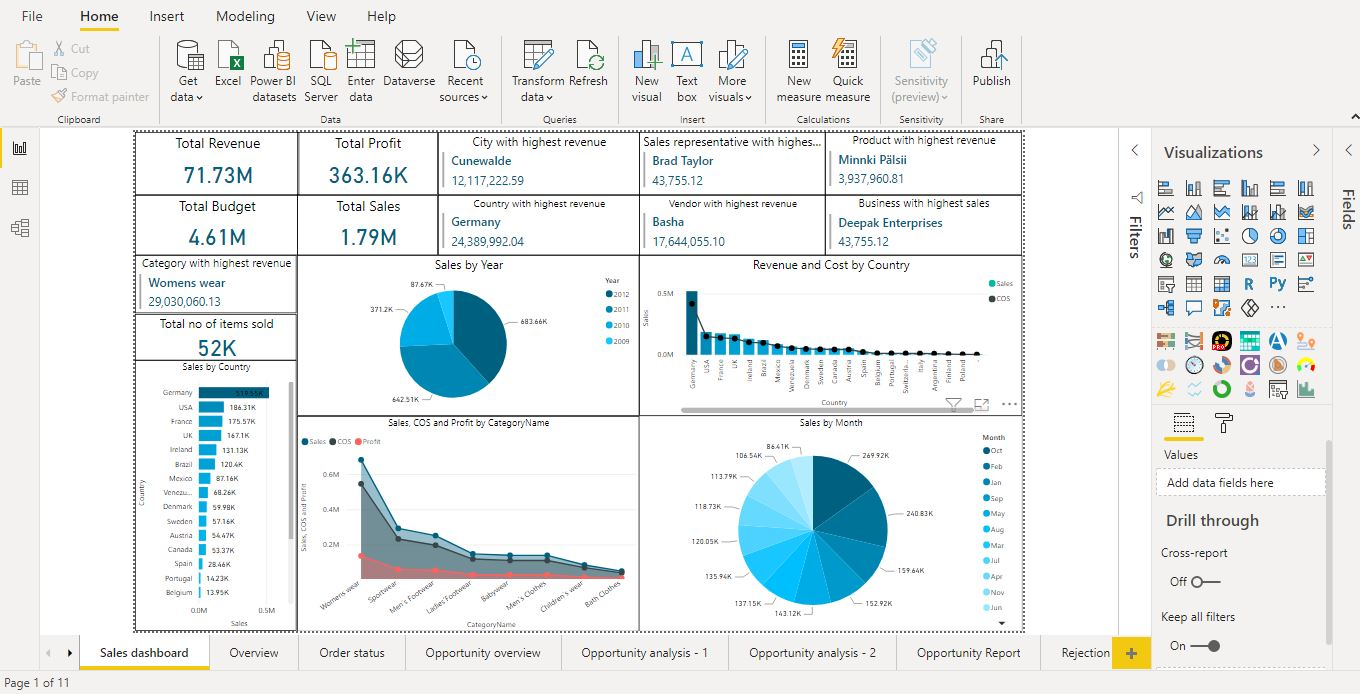

What the dashboard file says about the page in this screenshot:
{"tool":"powerbi","page":{"name":"Sales dashboard","canvas":[1280,720],"ordinal":0},"visuals":[{"type":"card","title":"Total Revenue","fields":{"Values":["Sum(Sales.Revenue)"]},"box":[0,0,236.9,90.7],"z":0},{"type":"multiRowCard","title":"Country with highest revenue","fields":{"Values":["Min(Sales.Country)","Sum(Sales.Revenue)"]},"box":[436.7,90.7,290.6,87.3],"z":1000},{"type":"multiRowCard","title":"Vendor with highest revenue","fields":{"Values":["Min(Sales.Vendor)","Sum(Sales.Revenue)"]},"box":[727.3,90.7,268.8,87.3],"z":2000},{"type":"multiRowCard","title":"Category with highest revenue","fields":{"Values":["Min(Sales.CategoryName)","Sum(Sales.Revenue)"]},"box":[0,178.1,233.5,84],"z":3000},{"type":"multiRowCard","title":"Product with highest revenue","fields":{"Values":["Min(Sales.ProductName)","Sum(Sales.Revenue)"]},"box":[996.1,0,283.9,90.7],"z":4000},{"type":"card","title":"Total Profit","fields":{"Values":["Sum(Sales.Profit)"]},"box":[233.5,0,203.3,90.7],"z":6000},{"type":"card","title":"Total no of items sold","fields":{"Values":["Sum(Sales.Quantity)"]},"box":[0,262,233.5,67.2],"z":7000},{"type":"multiRowCard","title":"City with highest revenue","fields":{"Values":["Min(Sales.City)","Sum(Sales.Revenue)"]},"box":[436.7,0,290.6,90.7],"z":8000},{"type":"card","title":"Total Sales","fields":{"Values":["Sum(Sales.Sales)"]},"box":[233.5,90.7,203.3,87.3],"z":9000},{"type":"multiRowCard","title":"Business with highest sales","fields":{"Values":["Min(Sales.Business)","Sum(Sales.Sales)"]},"box":[996.1,90.7,283.9,87.3],"z":10000},{"type":"card","title":"Total Budget","fields":{"Values":["Sum(Sales.Budget)"]},"box":[0,90.7,235.2,87.3],"z":11000},{"type":"multiRowCard","title":"Sales representative with highest sales","fields":{"Values":["Min(Sales.Sales Rep)","Sum(Sales.Sales)"]},"box":[727.3,0,268.8,90.7],"z":12000},{"type":"barChart","fields":{"Category":["Sales.Country"],"Y":["Sum(Sales.Sales)"]},"box":[0,329.2,233.5,391.4],"z":13000},{"type":"pieChart","fields":{"Category":["Sales.Year"],"Y":["Sum(Sales.Sales)"]},"box":[233.5,178.1,493.9,231.8],"z":14000},{"type":"pieChart","fields":{"Category":["Sales.Month"],"Y":["Sum(Sales.Sales)"]},"box":[727.3,409.9,552.7,310.8],"z":15000},{"type":"lineStackedColumnComboChart","title":"Revenue and Cost by Country","fields":{"Category":["Sales.Country"],"Y2":["Sum(Sales.COS)"],"Y":["Sum(Sales.Sales)"]},"box":[727.3,178.1,552.7,231.8],"z":16000},{"type":"lineStackedColumnComboChart","fields":{"Category":["Sales.CategoryName"],"Y2":["Sum(Sales.Sales)","Sum(Sales.COS)","Sum(Sales.Profit)"]},"box":[233.5,409.9,493.9,310.8],"z":17000}]}

Visuals, with their boxes on the page's 1280x720 design canvas (x1, y1, x2, y2). These are canvas units, not pixel positions in the 1360x694 screenshot, which may show the page scaled, cropped or inside an application window:
"Total Revenue" card: 0/0/237/91
"Country with highest revenue" multiRowCard: 437/91/727/178
"Vendor with highest revenue" multiRowCard: 727/91/996/178
"Category with highest revenue" multiRowCard: 0/178/234/262
"Product with highest revenue" multiRowCard: 996/0/1280/91
"Total Profit" card: 234/0/437/91
"Total no of items sold" card: 0/262/234/329
"City with highest revenue" multiRowCard: 437/0/727/91
"Total Sales" card: 234/91/437/178
"Business with highest sales" multiRowCard: 996/91/1280/178
"Total Budget" card: 0/91/235/178
"Sales representative with highest sales" multiRowCard: 727/0/996/91
barChart - Sales.Country x Sum(Sales.Sales): 0/329/234/721
pieChart - Sales.Year x Sum(Sales.Sales): 234/178/727/410
pieChart - Sales.Month x Sum(Sales.Sales): 727/410/1280/721
"Revenue and Cost by Country" lineStackedColumnComboChart: 727/178/1280/410
lineStackedColumnComboChart - Sales.CategoryName x Sum(Sales.Sales): 234/410/727/721
